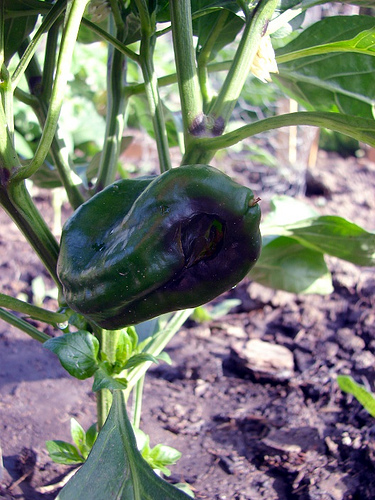capsicum: (56, 165, 261, 330)
